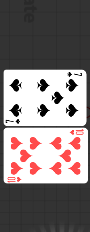10H: (7, 175, 23, 182)
7C: (66, 71, 84, 78)
